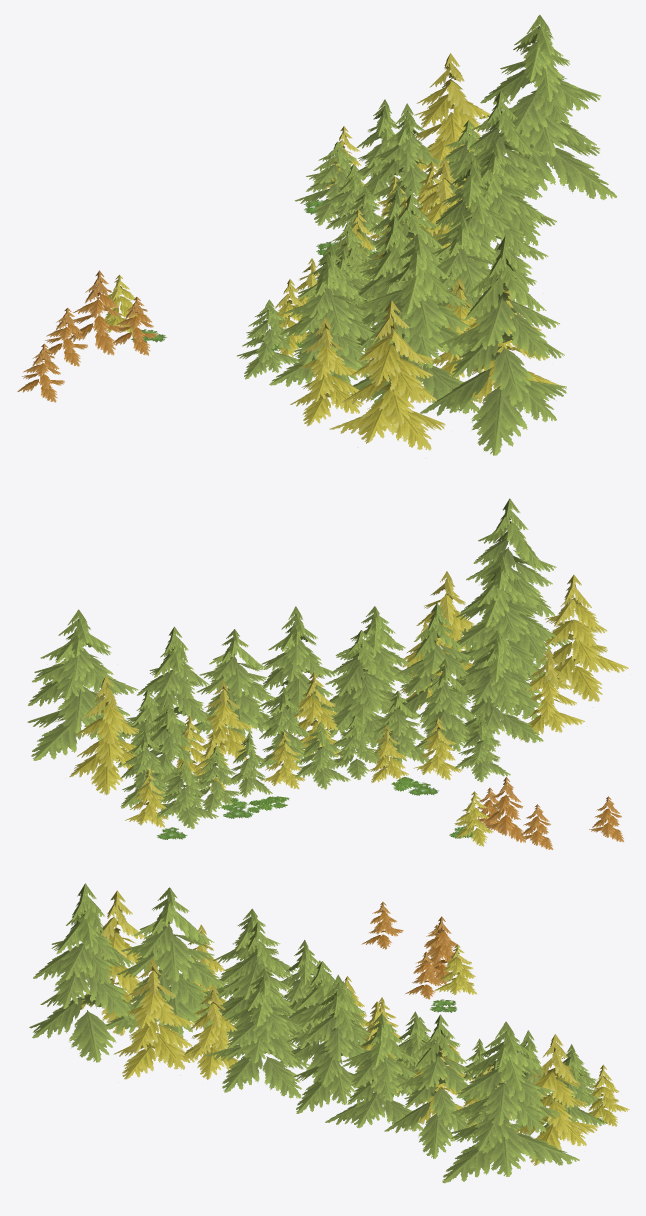
File: area_05_9.fbx
3 views of the same model, one above another, from view 1: azimuth 30°, elevation 25°; view 2: azimuth 150°, elevation 25°; view 3: azimuth 270°, elevation 25° (orthographic). The views are drawn at different scales.
Visible parts, largest first — view 1: area_05_9; view 2: area_05_9; view 3: area_05_9.
Part boxes in pixels (x1,y1,x2,y2): area_05_9: (17, 15, 616, 455); area_05_9: (27, 498, 628, 849); area_05_9: (29, 883, 629, 1183).
Bounding box in the file's own units: 55.96 × 17.64 × 52.37.
